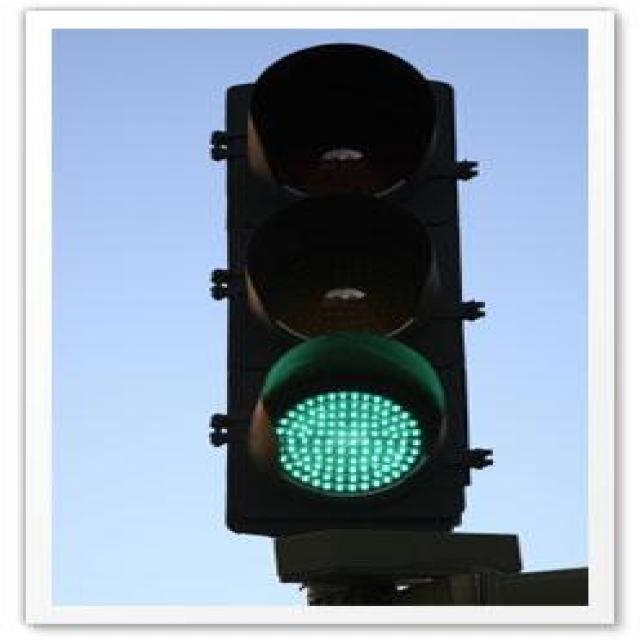green_light: (232, 57, 467, 520)
